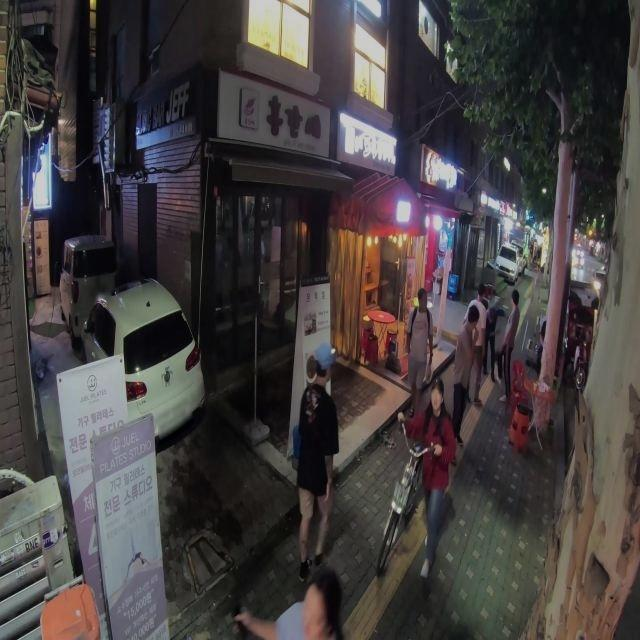non-fight: (387, 375, 458, 582), (289, 352, 340, 581), (455, 303, 479, 444), (404, 289, 435, 397), (495, 287, 520, 393)
